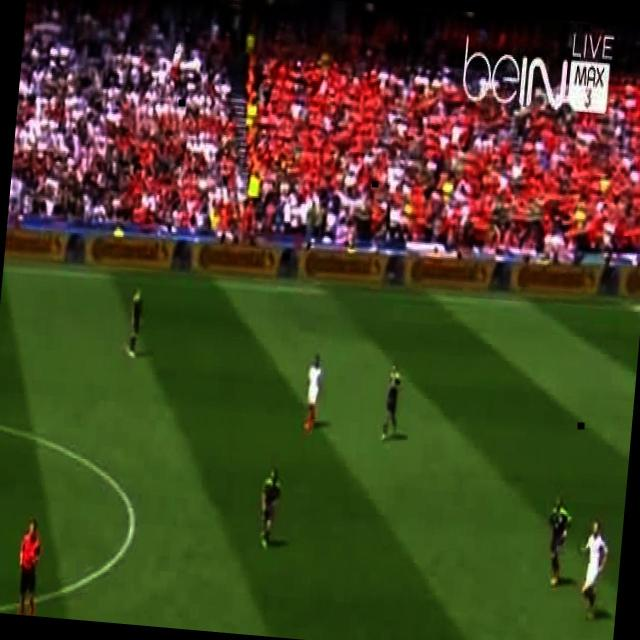player-white: (576, 520, 610, 618), (14, 514, 45, 616), (544, 498, 573, 586), (256, 466, 282, 550), (380, 359, 404, 441), (302, 354, 324, 432), (126, 286, 146, 358)
